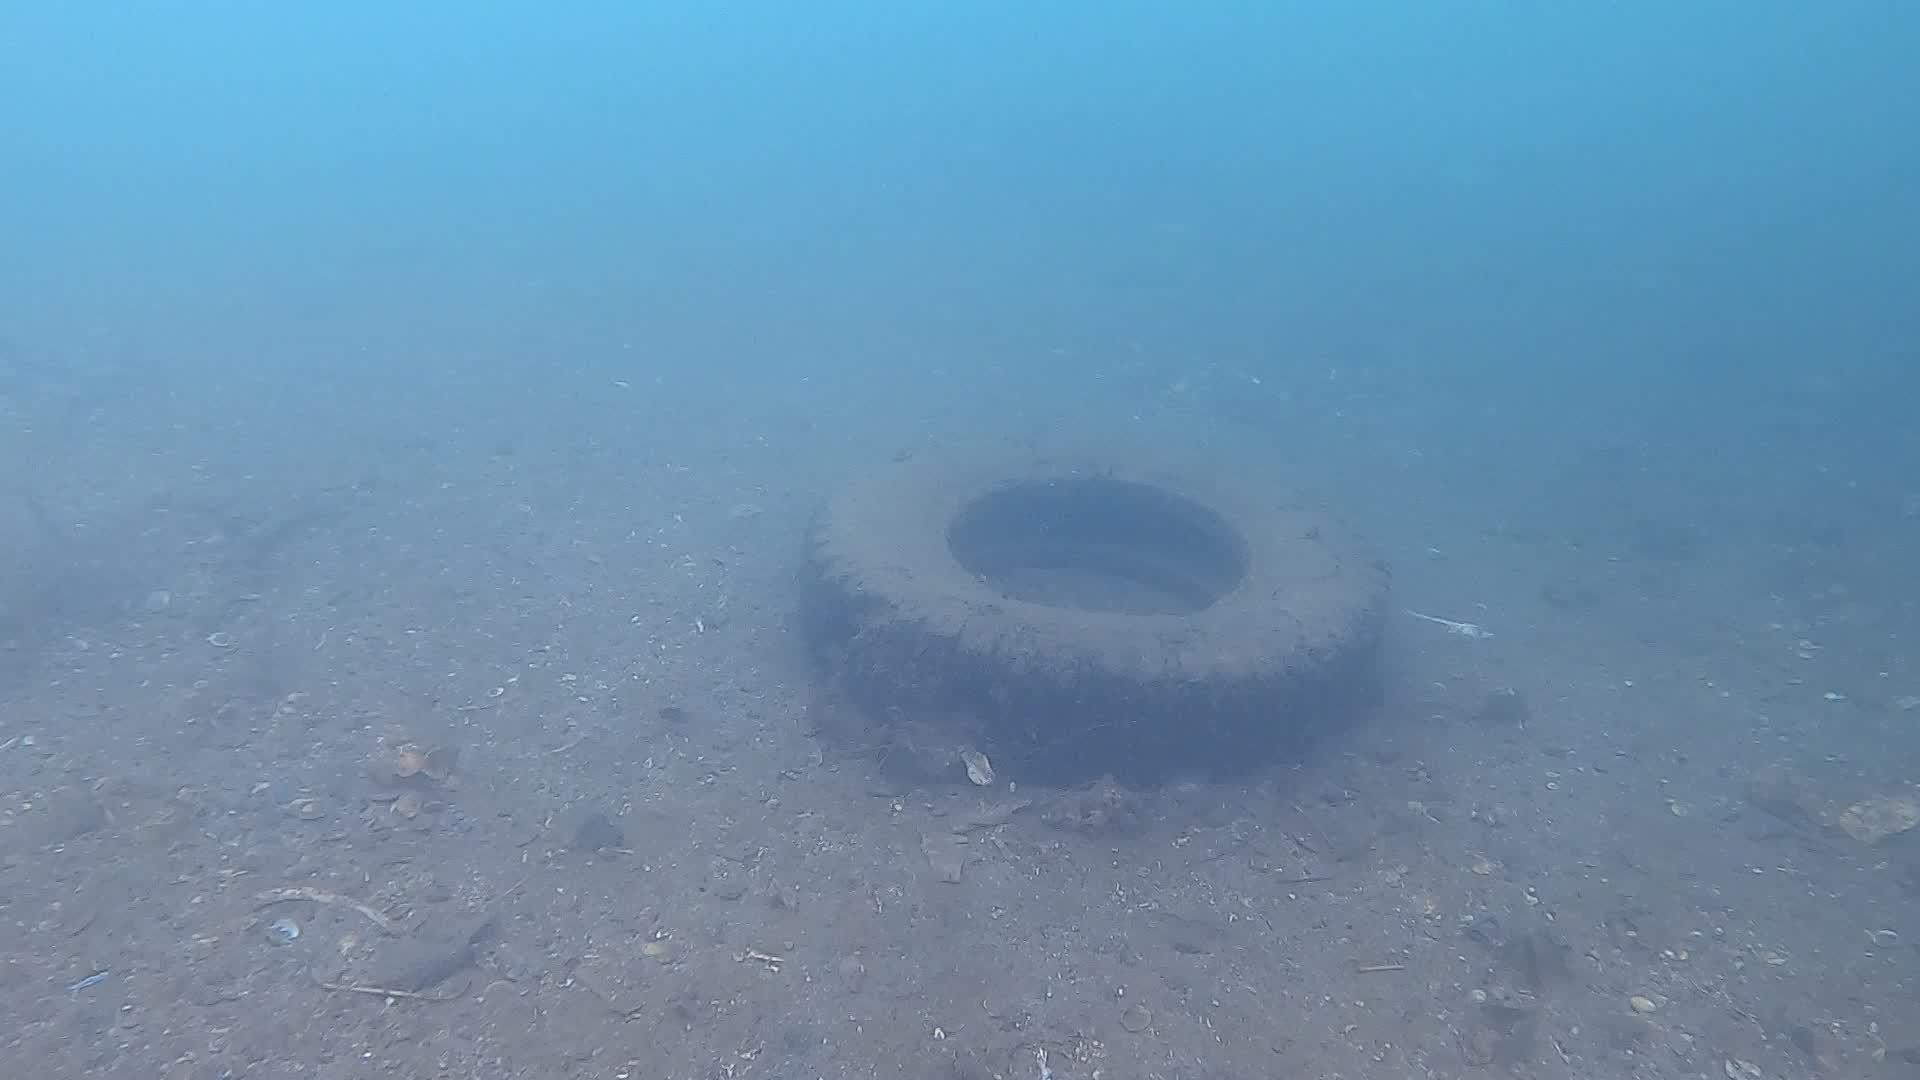tire: (796, 411, 1391, 793)
